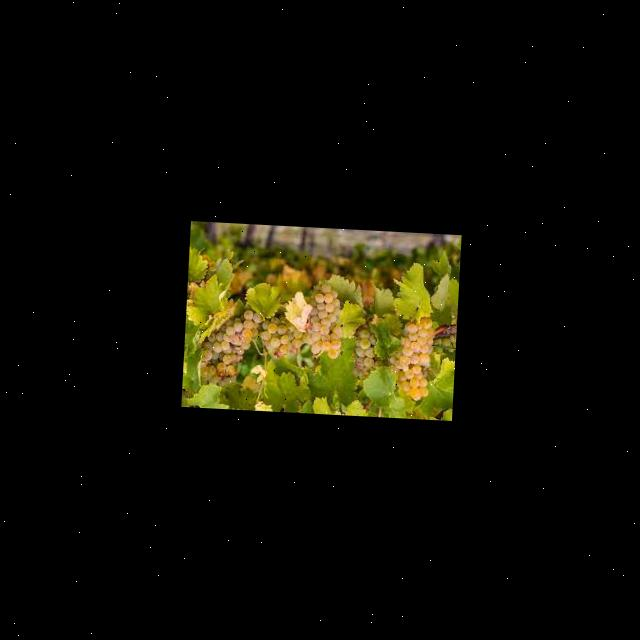grape: (198, 307, 262, 388), (386, 315, 436, 402), (302, 281, 344, 359), (430, 323, 456, 362)
